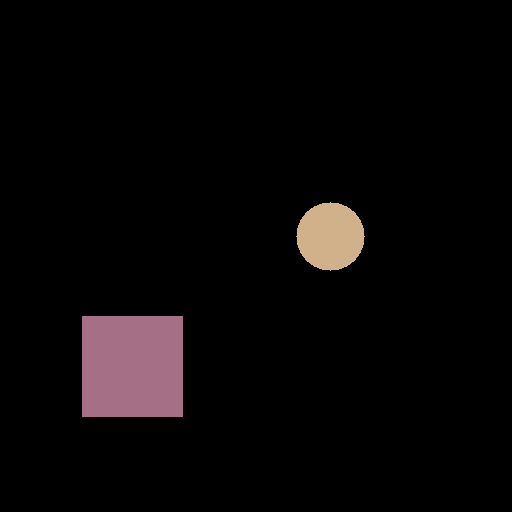circle: (296, 202, 364, 270)
square: (82, 316, 182, 416)
